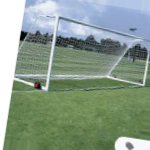goals: (14, 13, 150, 93)
